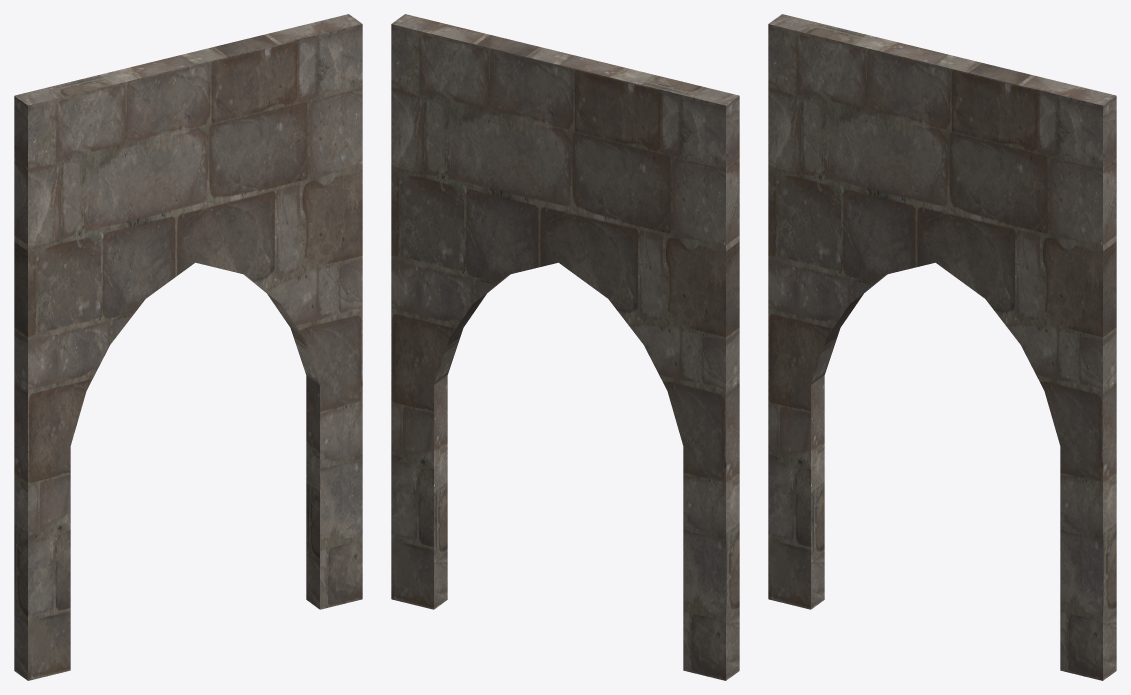
File: SM_ArchWallDoor_01c.fbx
3 views of the same model, side by side, from view 1: azimuth 30°, elevation 25°; view 2: azimuth 150°, elevation 25°; view 3: azimuth 330°, elevation 25° (orthographic).
Visible parts, largest first — view 1: SM_ArchWallDoor_01c; view 2: SM_ArchWallDoor_01c; view 3: SM_ArchWallDoor_01c.
Part boxes in pixels (x1,y1,x2,y2): SM_ArchWallDoor_01c: (14, 14, 362, 680); SM_ArchWallDoor_01c: (391, 14, 739, 680); SM_ArchWallDoor_01c: (768, 14, 1116, 680).
Size of the model in its own units: 700 by 1150 by 50.
Materials: 1 (1 with a texture image).
